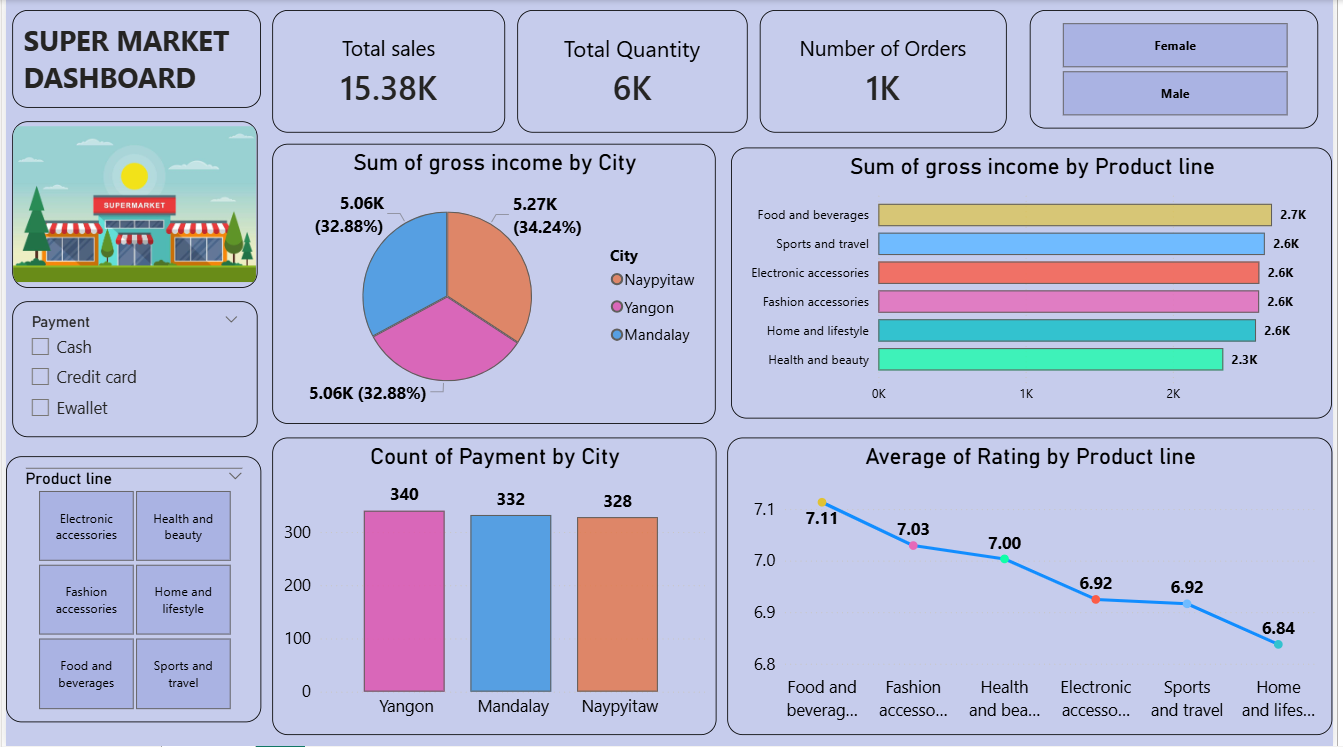

This screenshot's page, from the dashboard's own definition file:
{"tool":"powerbi","page":{"name":"Page 1","canvas":[1280,720],"ordinal":0},"visuals":[{"type":"cardVisual","fields":{"Data":["Query1.Total Income"]},"box":[257,9.7,230.4,118.2],"z":0,"group":"g1"},{"type":"pieChart","fields":{"Category":["Query1.City"],"Y":["Sum(Query1.gross income)"]},"box":[257,142.4,439.1,270.2],"z":0},{"type":"cardVisual","fields":{"Data":["Query1.Total Quantity"]},"box":[495.9,9.7,222,118.2],"z":1000,"group":"g1"},{"type":"barChart","fields":{"Category":["Query1.Product line"],"Y":["Sum(Query1.gross income)"]},"box":[699.7,142.4,580.3,269],"z":1000},{"type":"cardVisual","fields":{"Data":["Query1.Number of Orders"]},"box":[726.3,9.7,240.1,114.6],"z":2000,"group":"g1"},{"type":"lineChart","fields":{"Y":["Avg(Query1.Rating)"],"Category":["Query1.Product line"]},"box":[696.1,412.6,583.9,296.8],"z":2000},{"type":"clusteredColumnChart","fields":{"Category":["Query1.City"],"Y":["CountNonNull(Query1.Payment)"]},"box":[256.8,422.7,428.5,287.1],"z":3000},{"type":"slicer","fields":{"Values":["Query1.Product line"]},"box":[0,440,246.7,256.8],"z":4000},{"type":"slicer","fields":{"Values":["Query1.Payment"]},"box":[5.8,256.8,236.6,165.9],"z":5000},{"type":"slicer","fields":{"Values":["Query1.Gender"]},"box":[976.7,2.9,290,132.7],"z":6000},{"type":"group","id":"g1","title":"Group 1","box":[257,9.7,709.4,118.2],"z":7000}]}

Visuals, with their boxes in screenshot pixels (x1, y1, x2, y2), scaled from the page's 1280x720 canvas onto the 1343x747 screenshot:
cardVisual - Query1.Total Income: pyautogui.locateOnScreen(270, 10, 511, 133)
pieChart - Query1.City x Sum(Query1.gross income): pyautogui.locateOnScreen(270, 148, 730, 428)
cardVisual - Query1.Total Quantity: pyautogui.locateOnScreen(520, 10, 753, 133)
barChart - Query1.Product line x Sum(Query1.gross income): pyautogui.locateOnScreen(734, 148, 1342, 427)
cardVisual - Query1.Number of Orders: pyautogui.locateOnScreen(762, 10, 1014, 129)
lineChart - Avg(Query1.Rating) x Query1.Product line: pyautogui.locateOnScreen(730, 428, 1342, 736)
clusteredColumnChart - Query1.City x CountNonNull(Query1.Payment): pyautogui.locateOnScreen(269, 439, 719, 736)
slicer - Query1.Product line: pyautogui.locateOnScreen(0, 457, 259, 723)
slicer - Query1.Payment: pyautogui.locateOnScreen(6, 266, 254, 439)
slicer - Query1.Gender: pyautogui.locateOnScreen(1025, 3, 1329, 141)
"Group 1" group: pyautogui.locateOnScreen(270, 10, 1014, 133)
